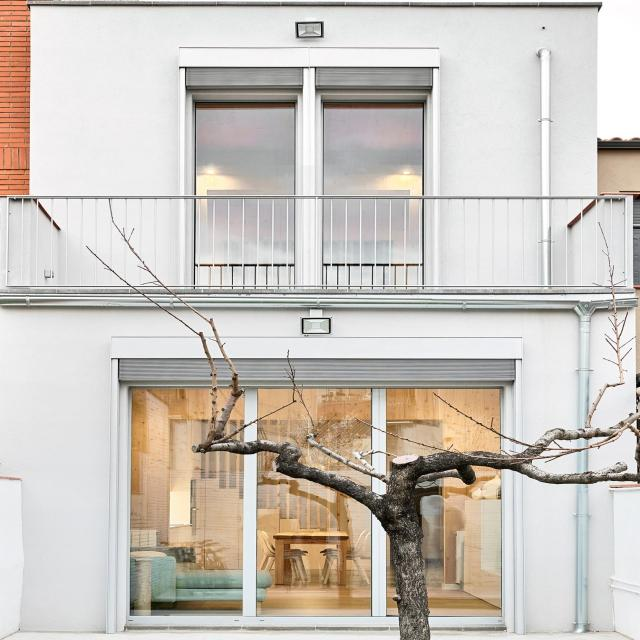door: (129, 380, 513, 628)
railing: (4, 195, 630, 286)
window: (183, 86, 428, 197)
